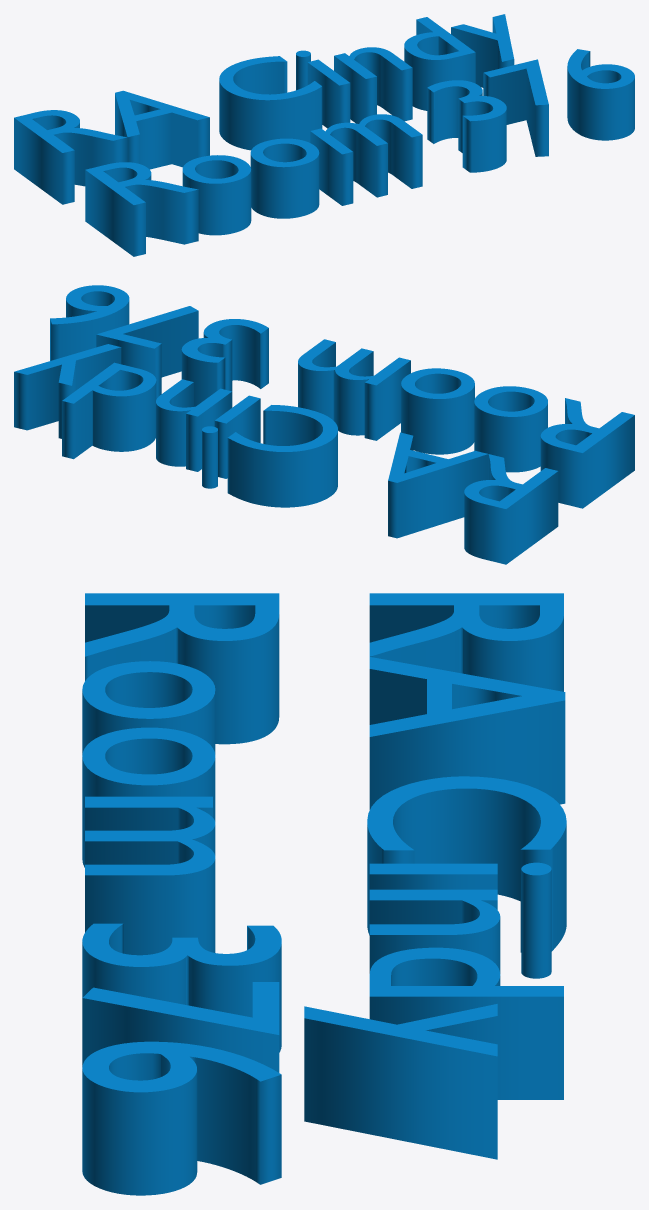
The model's file is ra-cindy-376.gltf.
3 renders of one model, top to bottom at view 1: azimuth 30°, elevation 25°; view 2: azimuth 150°, elevation 25°; view 3: azimuth 270°, elevation 25°, orthographic. The views are drawn at different scales.
Parts seen in each view (by area): view 1: Text; view 2: Text; view 3: Text.
Boxes of the visible parts, bbox=[...] form: Text: bbox=[14, 14, 634, 256]; Text: bbox=[14, 285, 634, 564]; Text: bbox=[82, 593, 566, 1195].
Bounding box in the file's own units: 4.15 × 0.4 × 1.7.
